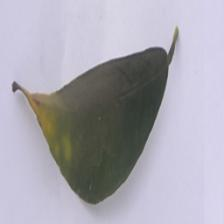black spot: (72, 35, 174, 189)
